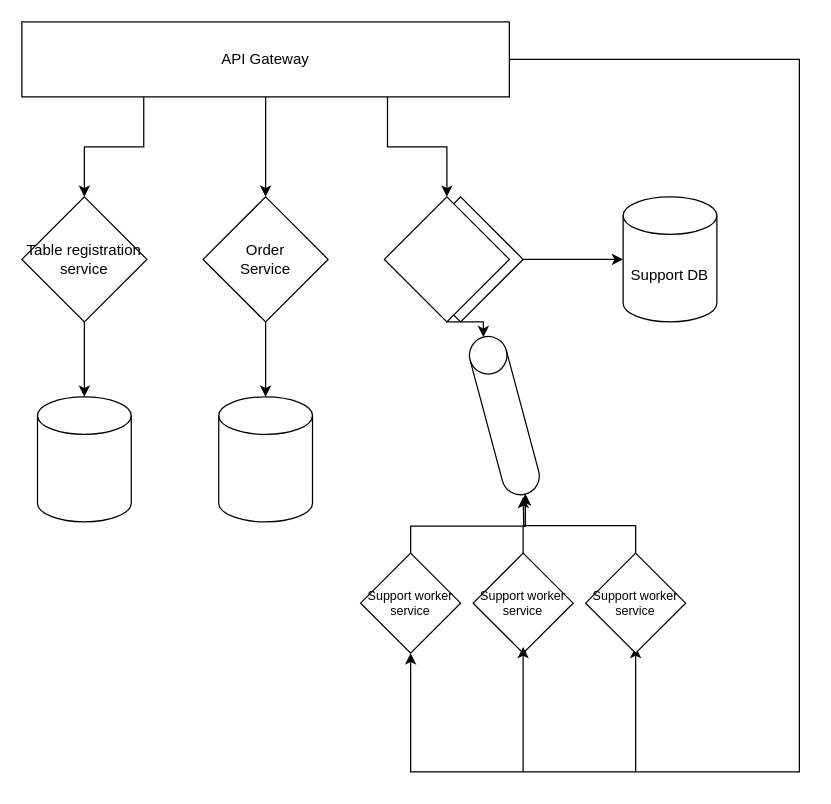
Image size: 831x804. Some labels were removed from this diagram. Here are the shapes that lost their labels. From the top down, the box of each, then its label:
(383, 196, 509, 322): Support service
(464, 331, 544, 499): MQ
(36, 396, 131, 522): Restaurant tables
(218, 396, 312, 522): Orders
